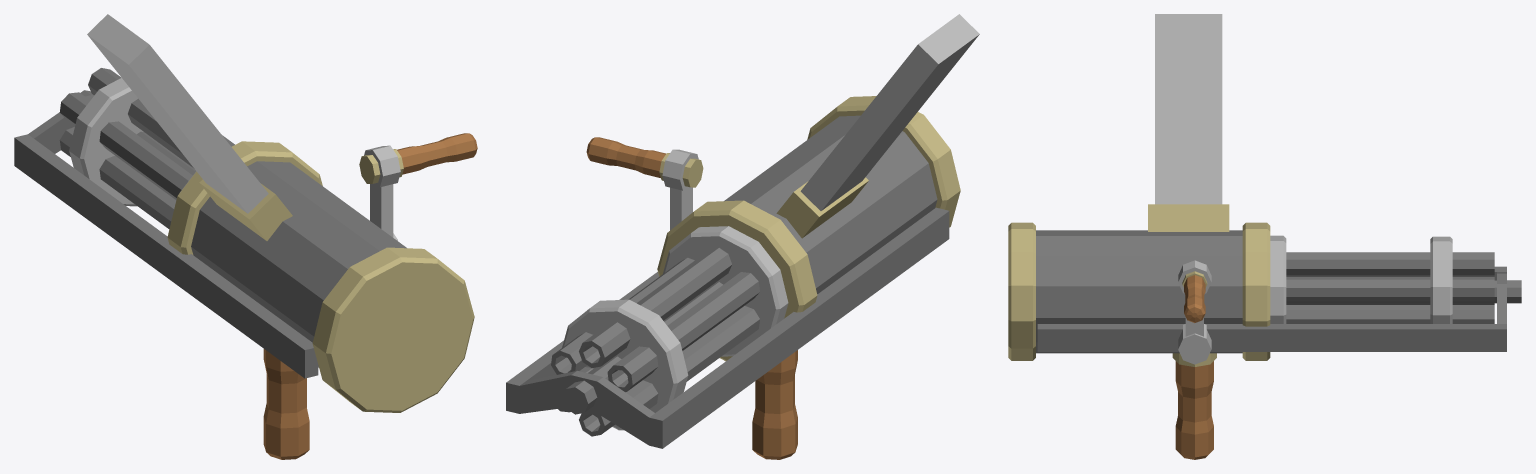
The model's file is Minigun.glb.
The picture shows the model from 3 angles, left to right: view 1: azimuth 30°, elevation 25°; view 2: azimuth 150°, elevation 25°; view 3: azimuth 270°, elevation 25°; orthographic projection. The views are drawn at different scales.
Parts seen in each view (by area): view 1: Gathling_e5151e, Gathling_de7f54, Gathling_c7c457, Gathling_bdc49a; view 2: Gathling_e5151e, Gathling_c7c457, Gathling_de7f54, Gathling_bdc49a; view 3: Gathling_e5151e, Gathling_c7c457, Gathling_de7f54, Gathling_bdc49a.
Part boxes in pixels (x1=…): Gathling_e5151e: x1=14, y1=68, x2=406, y2=378; Gathling_de7f54: x1=167, y1=141, x2=474, y2=412; Gathling_c7c457: x1=69, y1=14, x2=400, y2=240; Gathling_bdc49a: x1=263, y1=133, x2=477, y2=459; Gathling_e5151e: x1=506, y1=115, x2=949, y2=448; Gathling_c7c457: x1=562, y1=14, x2=979, y2=430; Gathling_de7f54: x1=657, y1=96, x2=960, y2=361; Gathling_bdc49a: x1=586, y1=137, x2=797, y2=459; Gathling_e5151e: x1=1036, y1=230, x2=1521, y2=353; Gathling_c7c457: x1=1155, y1=14, x2=1452, y2=364; Gathling_de7f54: x1=1008, y1=204, x2=1270, y2=366; Gathling_bdc49a: x1=1175, y1=275, x2=1213, y2=459.
Bounding box in the file's own units: 0.6715 × 0.8114 × 1.
